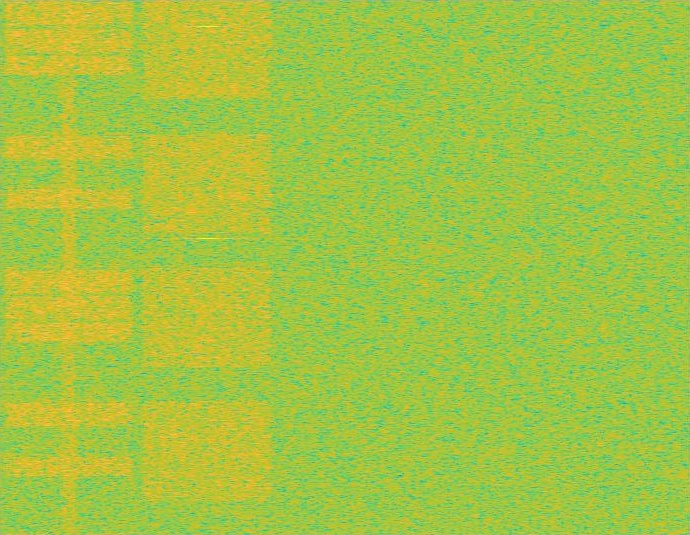5G: (138, 0, 276, 534)
DSSS: (60, 0, 78, 534)
LTE: (0, 0, 138, 534)
Radar: (202, 0, 215, 534)
